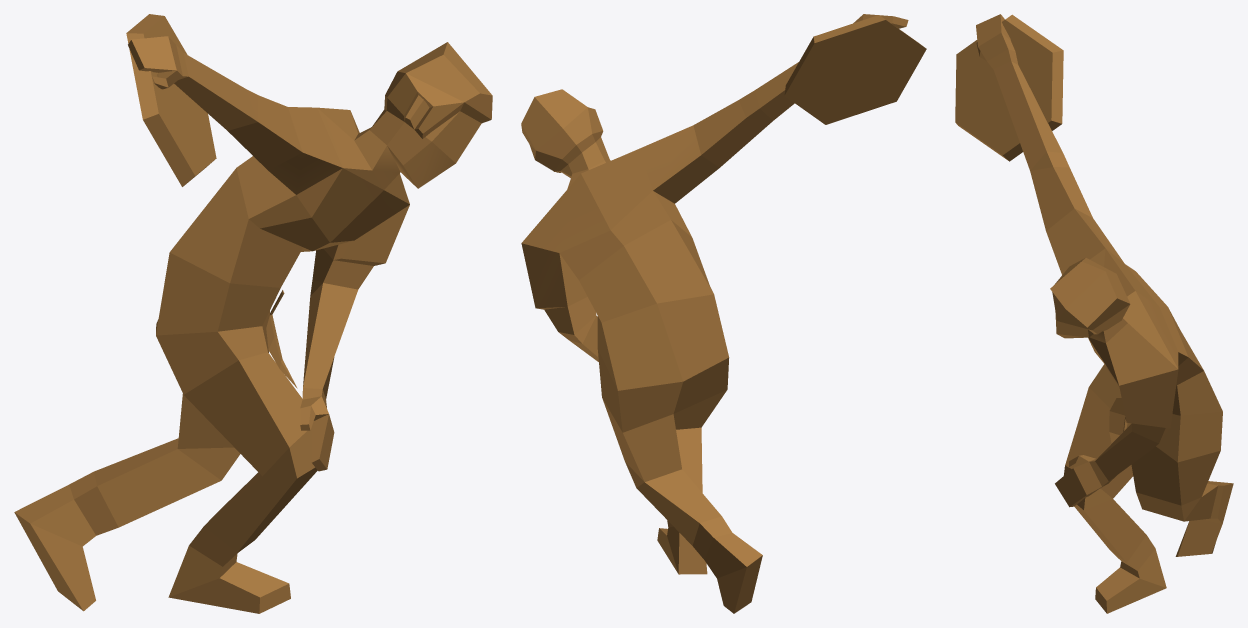
Rendered from SM_Statue_Big_Diskobolos_Empire.fbx.
3 renders of one model, left to right at view 1: azimuth 30°, elevation 25°; view 2: azimuth 150°, elevation 25°; view 3: azimuth 270°, elevation 25°, orthographic. The views are drawn at different scales.
Visible parts, largest first — view 1: SM_Statue_Big_Diskobolos_Empire; view 2: SM_Statue_Big_Diskobolos_Empire; view 3: SM_Statue_Big_Diskobolos_Empire.
Boxes of the visible parts, x1,y1,x2,y2 form: SM_Statue_Big_Diskobolos_Empire: (14,14,492,613); SM_Statue_Big_Diskobolos_Empire: (521,14,926,613); SM_Statue_Big_Diskobolos_Empire: (955,14,1233,613).
Bounding box in the file's own units: 4.65 × 7 × 3.41.
